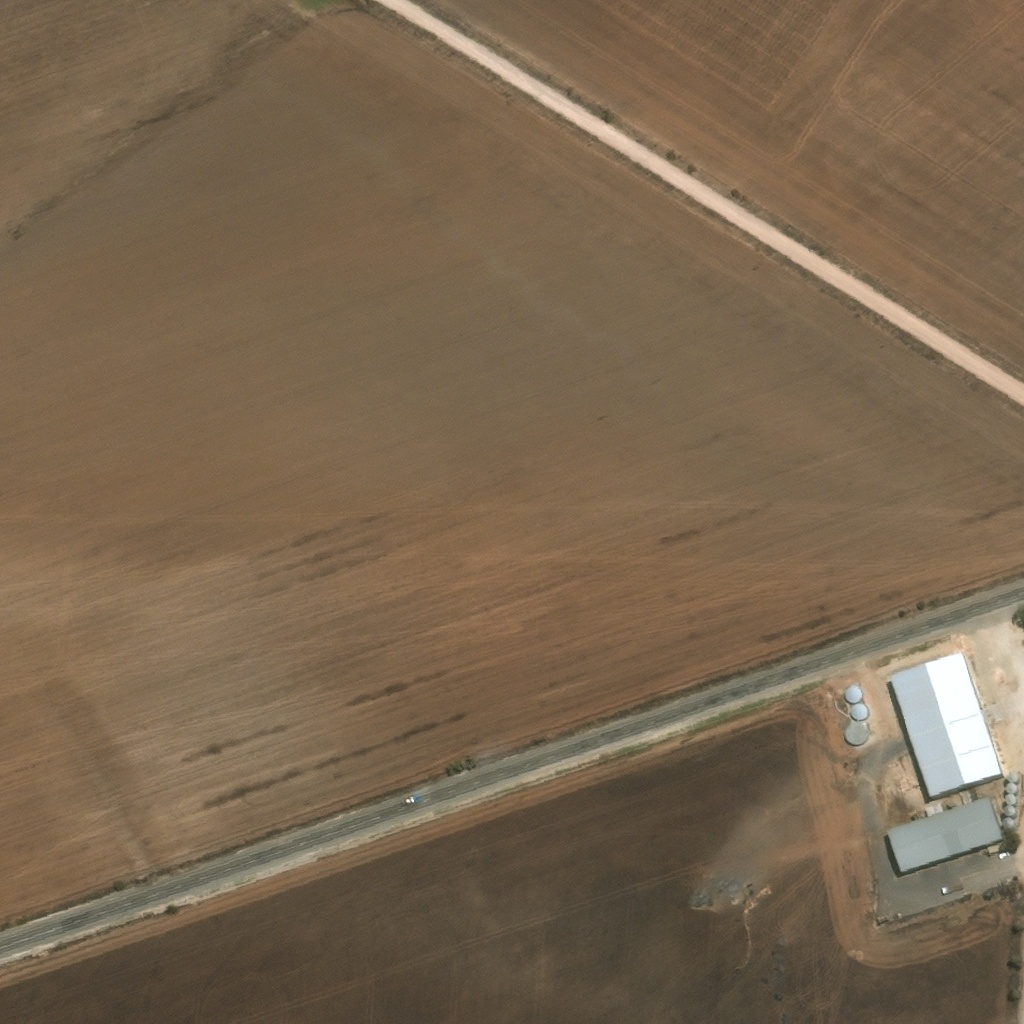0 no-damage: (890, 647, 1004, 796), (888, 795, 1005, 871), (844, 724, 868, 745), (851, 703, 869, 721), (845, 686, 861, 704), (1006, 780, 1019, 792), (1006, 791, 1019, 803), (1003, 814, 1015, 826), (1005, 802, 1017, 813), (1009, 769, 1020, 780)
